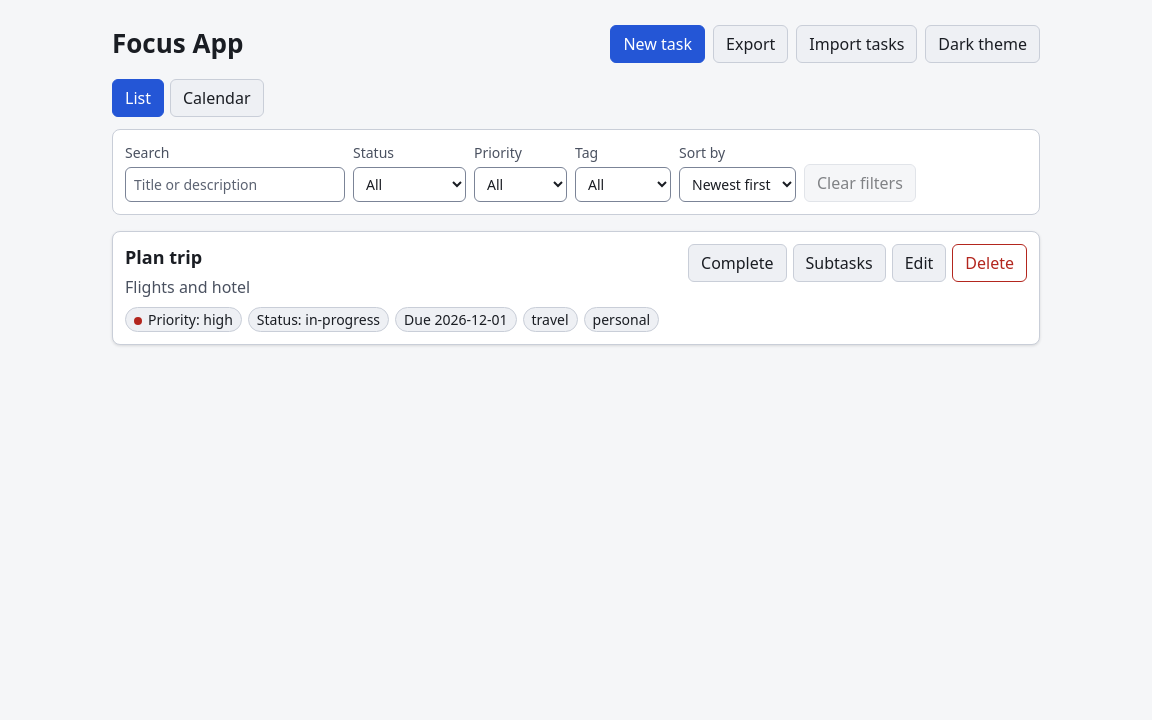
Scenario: saving a task that no longer exists › keeps the modal open with a message and does not recreate the task
Click the button with aria-label "Edit Plan trip" at (919, 263), box x1=892 y1=244 x2=946 y2=282
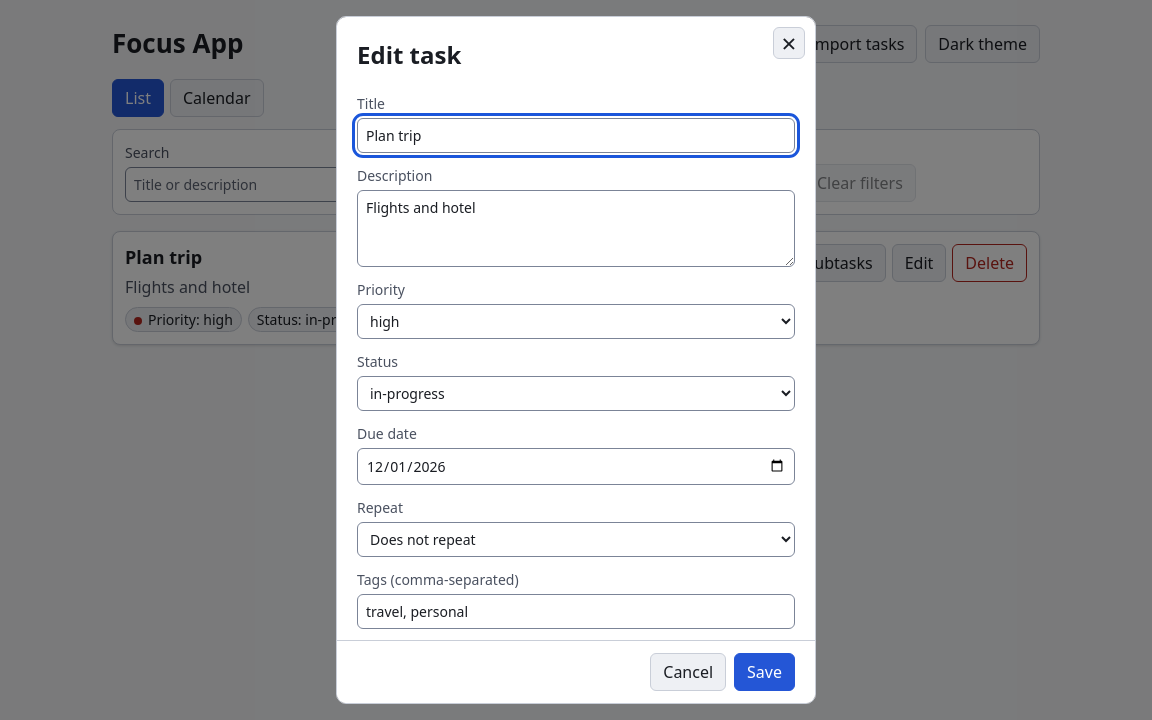
Type " (edited)" into the field labelled "Title" at (576, 135), box x1=357 y1=118 x2=795 y2=153
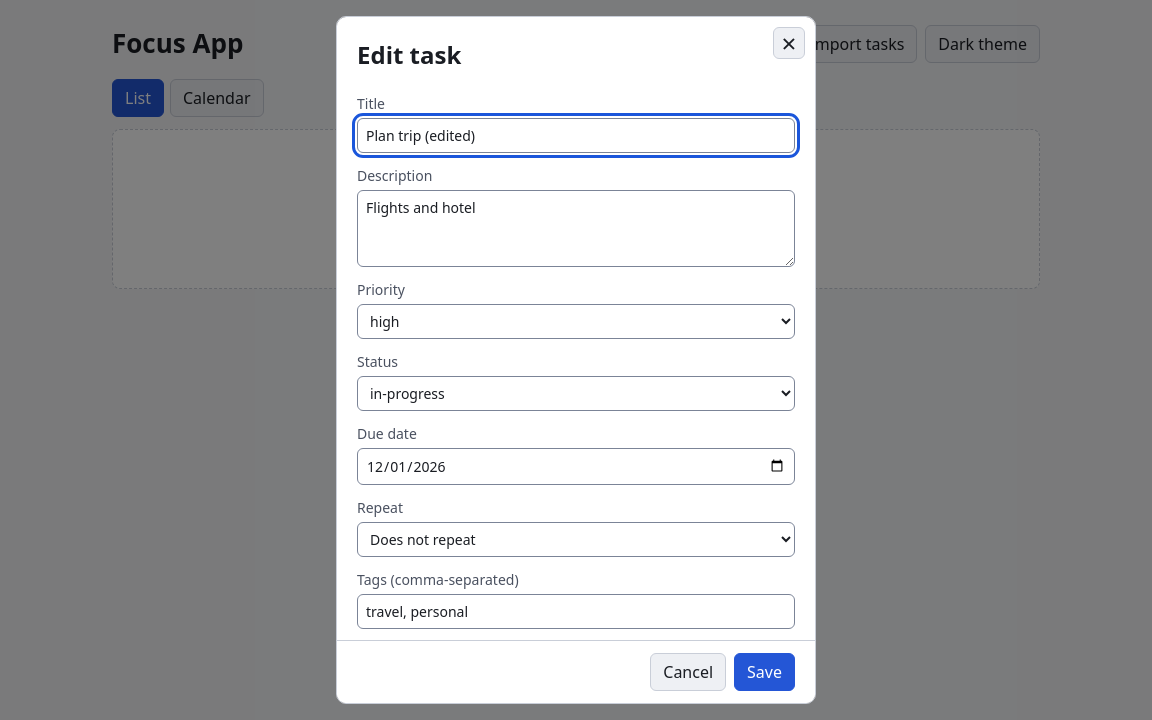
Click the button "Save" at (765, 672), box x1=734 y1=653 x2=795 y2=691
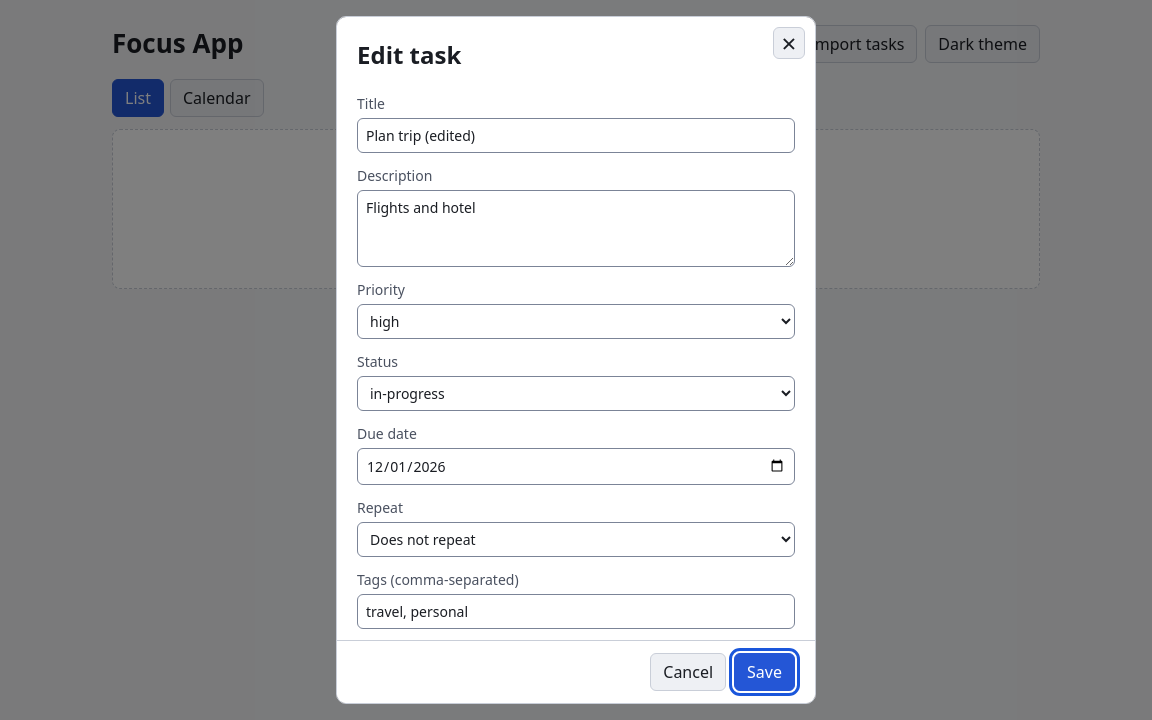
expect the field labelled "Title" holds "Plan trip (edited)": met, box x1=357 y1=118 x2=795 y2=153
expect the message reads "This task no longer exists, so your changes cannot be saved.": met, box x1=357 y1=656 x2=752 y2=675
